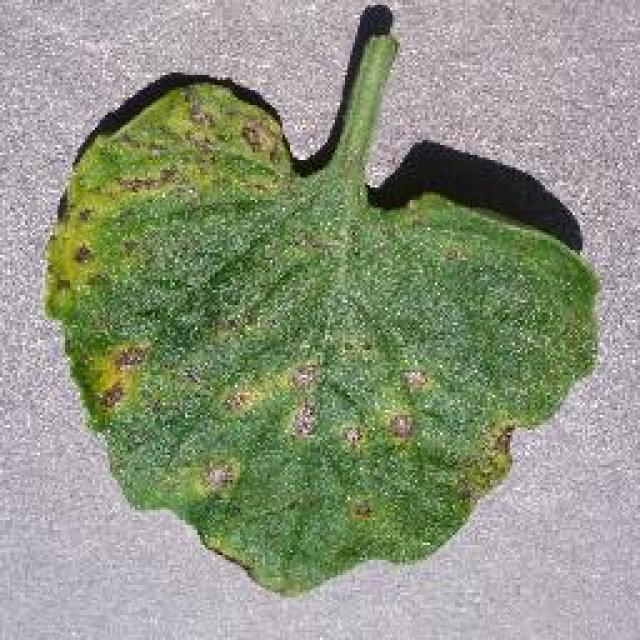Tomato___Septoria_leaf_spot: (45, 35, 595, 592)
